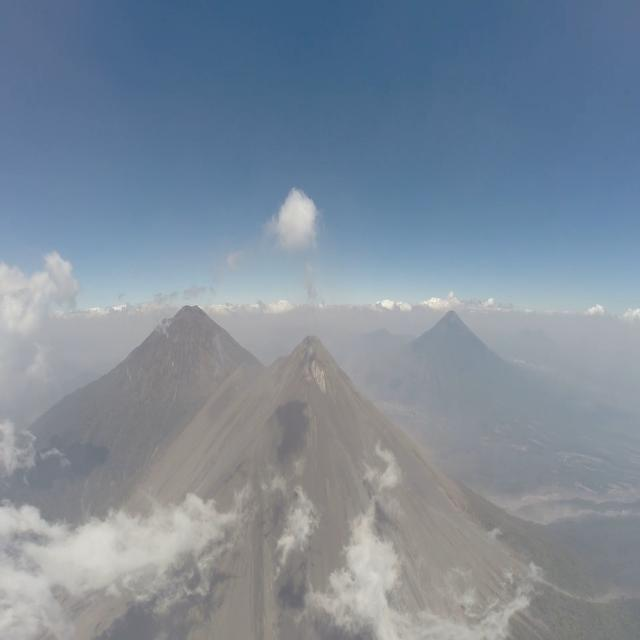Summit: (266, 332, 350, 396)
